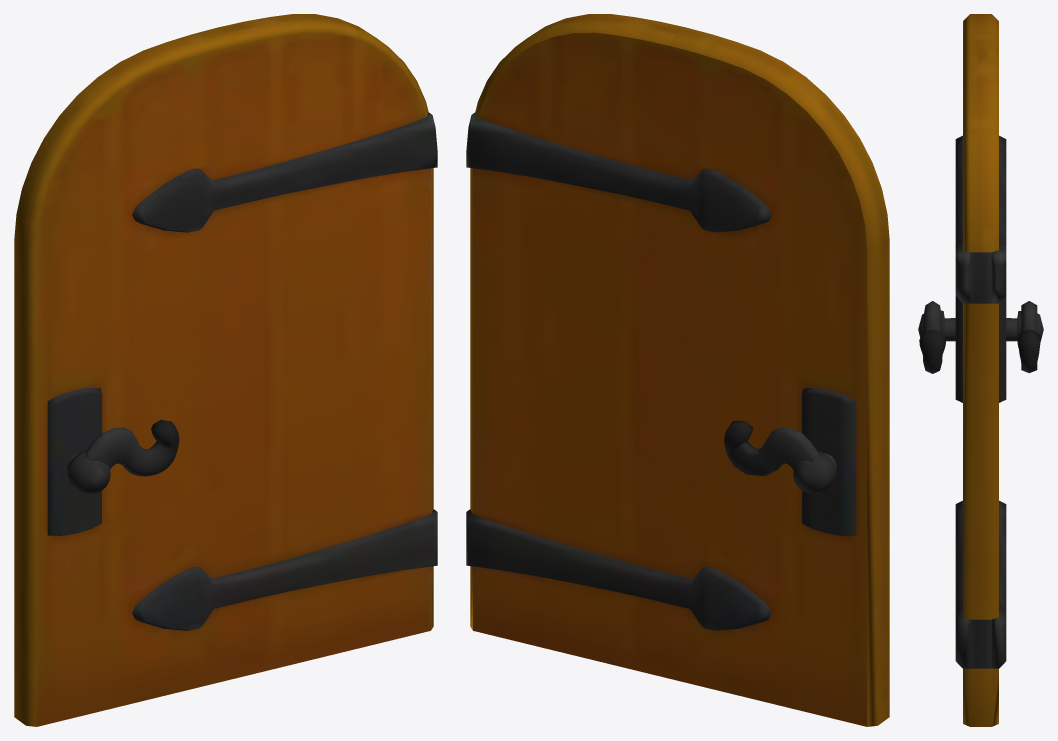
File: door-ironparts-r.glb
The picture shows the model from 3 angles, left to right: view 1: azimuth 30°, elevation 25°; view 2: azimuth 150°, elevation 25°; view 3: azimuth 270°, elevation 25°; orthographic projection. The views are drawn at different scales.
Size of the model in its own units: 12 by 18 by 3.5.
Materials: 1 (1 with a texture image).
